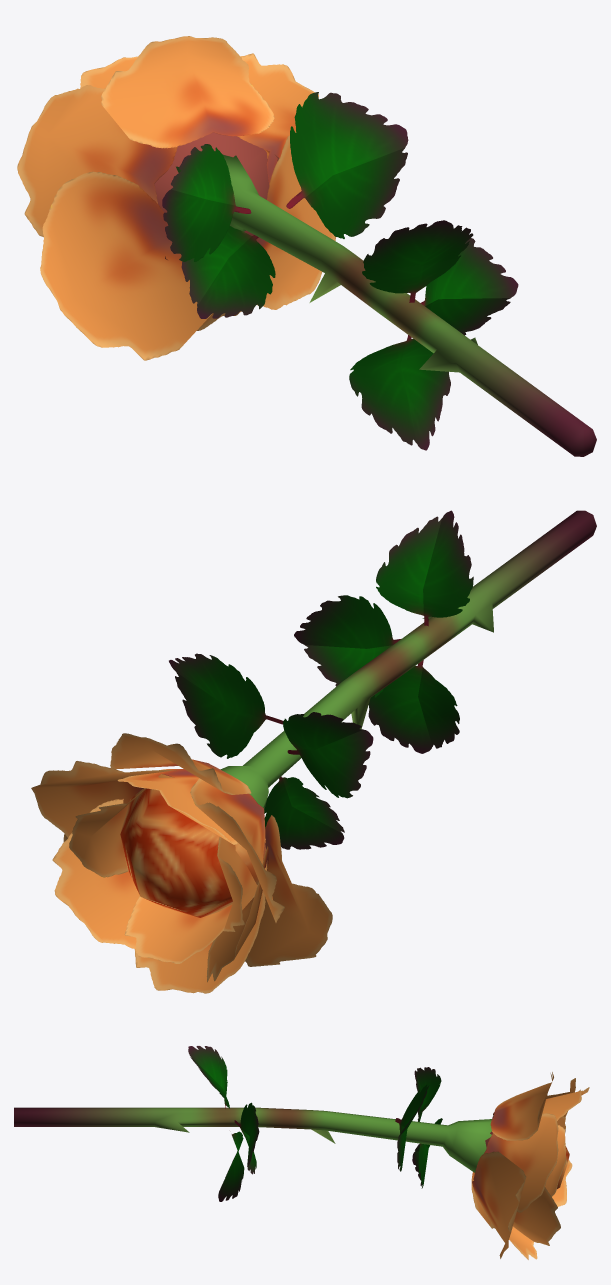
File: SM_Rose_Orange_Open.fbx
The picture shows the model from 3 angles, top to bottom: view 1: azimuth 30°, elevation 25°; view 2: azimuth 150°, elevation 25°; view 3: azimuth 270°, elevation 25°; orthographic projection. The views are drawn at different scales.
Parts seen in each view (by area): view 1: Rose_Orange_Open; view 2: Rose_Orange_Open; view 3: Rose_Orange_Open.
Boxes of the visible parts, x1,y1,x2,y2 form: Rose_Orange_Open: [17, 36, 596, 456]; Rose_Orange_Open: [31, 510, 596, 993]; Rose_Orange_Open: [14, 1046, 589, 1259].
Bounding box in the file's own units: 50.21 × 50.94 × 127.
